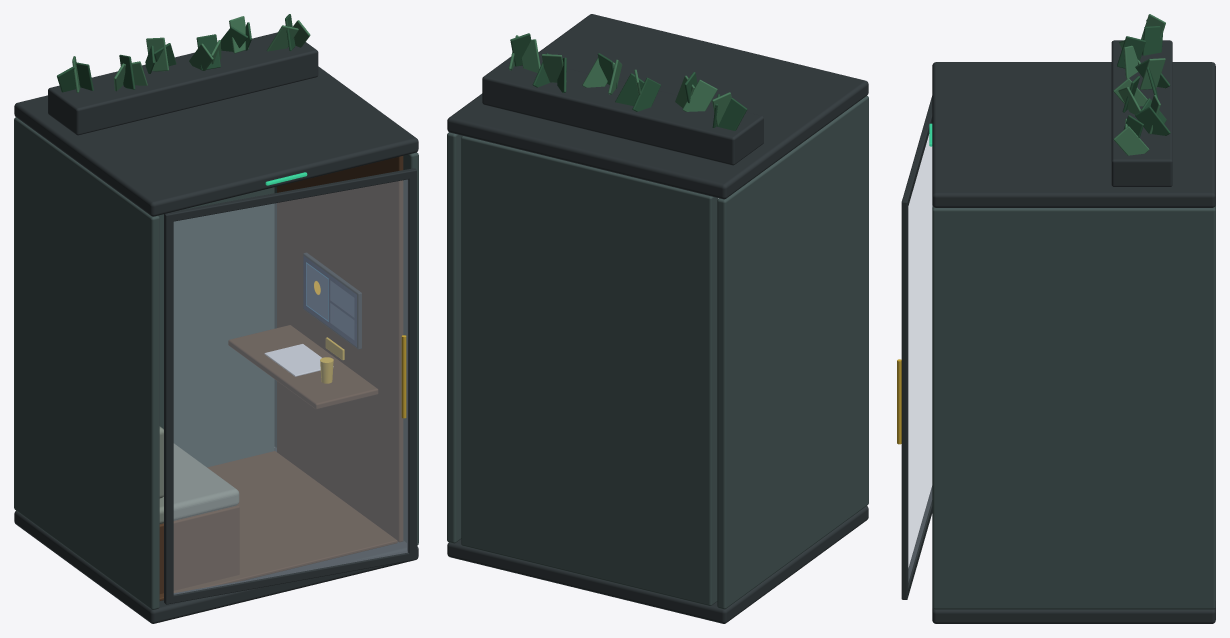
File: campus-pod-walnut.glb
3 renders of one model, left to right at view 1: azimuth 30°, elevation 25°; view 2: azimuth 150°, elevation 25°; view 3: azimuth 270°, elevation 25°, orthographic. The views are drawn at different scales.
Bounding box in the file's own units: 1.45 × 2.49 × 1.46.
Materials: 13 (1 with a texture image).
